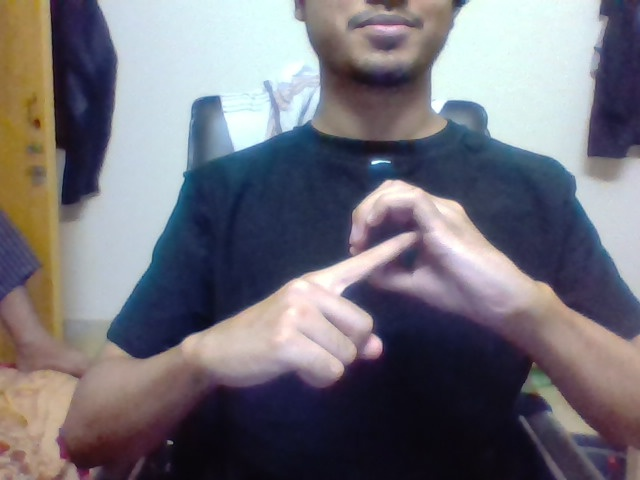Q: (354, 205, 433, 289)
